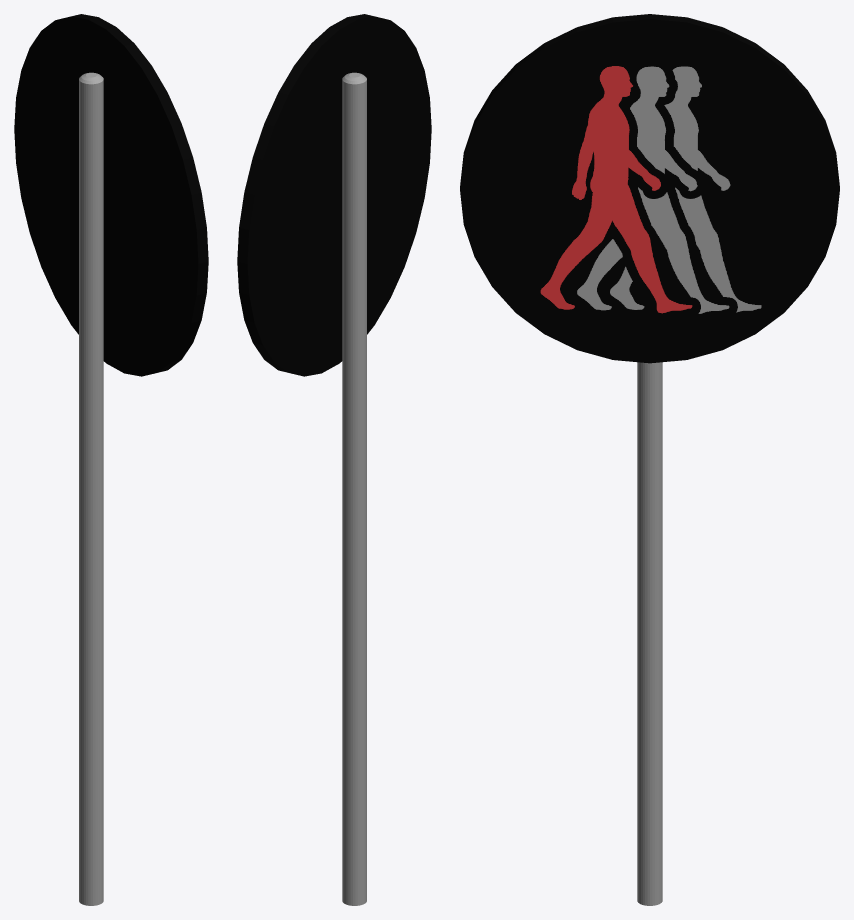
File: past_pannel.glb
3 views of the same model, side by side, from view 1: azimuth 30°, elevation 25°; view 2: azimuth 150°, elevation 25°; view 3: azimuth 270°, elevation 25° (orthographic). The views are drawn at different scales.
Visible parts, largest first — view 1: Cylinder.001; view 2: Cylinder.001; view 3: Cylinder.001.
Part boxes in pixels (x1=…): Cylinder.001: x1=14, y1=14, x2=208, y2=905; Cylinder.001: x1=237, y1=14, x2=431, y2=905; Cylinder.001: x1=460, y1=14, x2=839, y2=905.
Size of the model in its own units: 0.7801 by 17.98 by 6.92.
2 materials, 1 textured.
